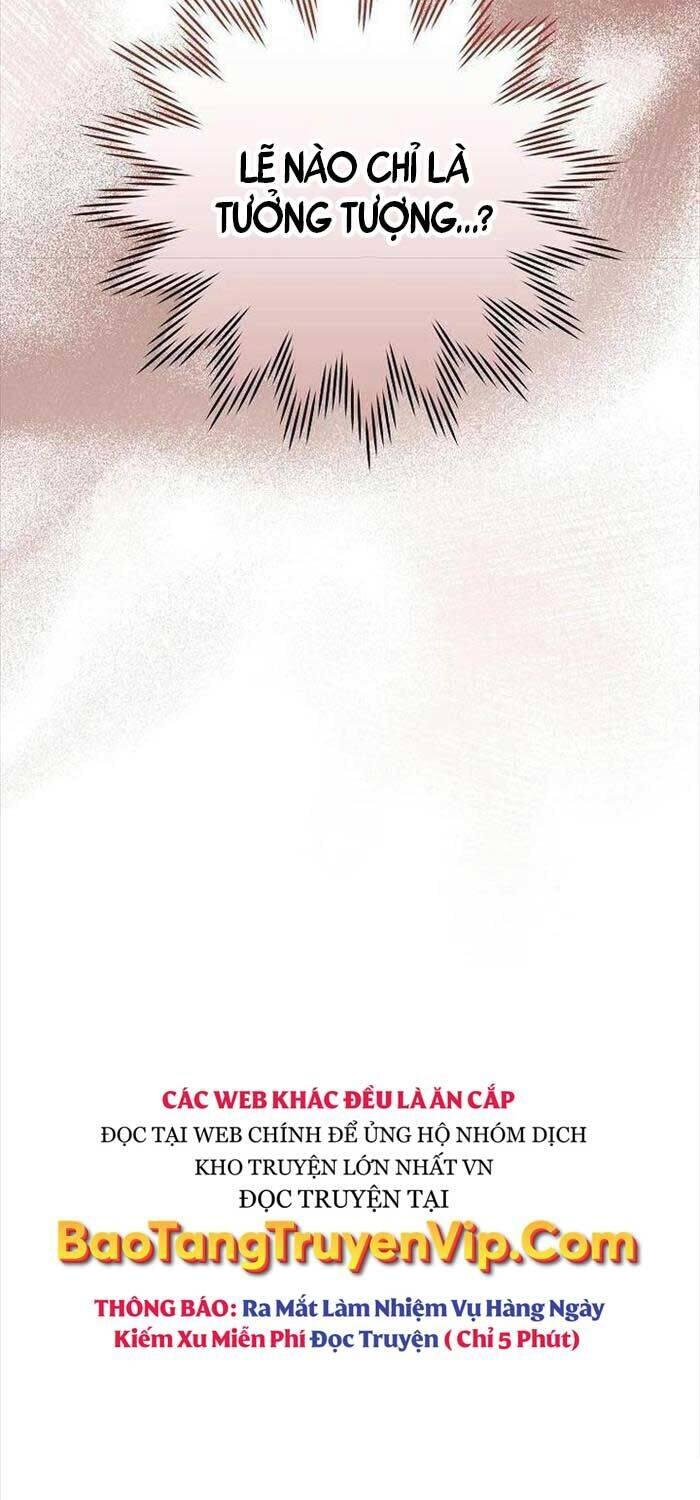quangcao: (54, 1082, 642, 1354)
